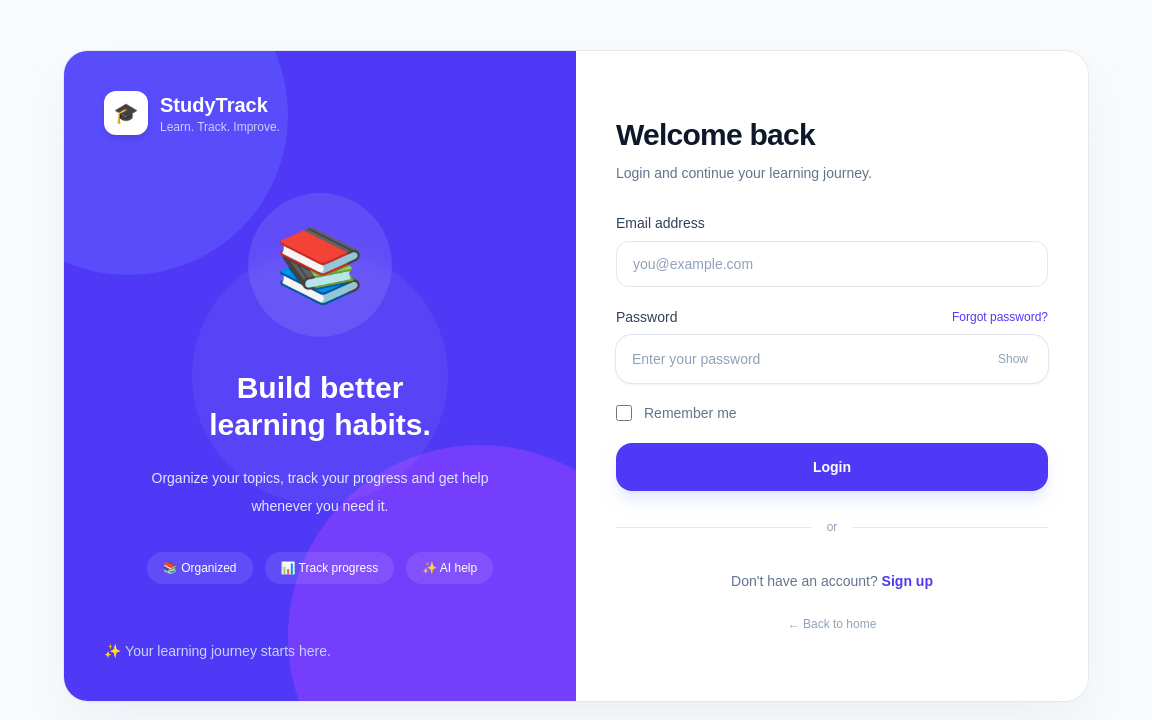
Test: Login Page › shows error when login fails
Step 1. Type "test@example.com" into the field labelled "Email address" → (832, 264), box [616, 241, 1048, 287]
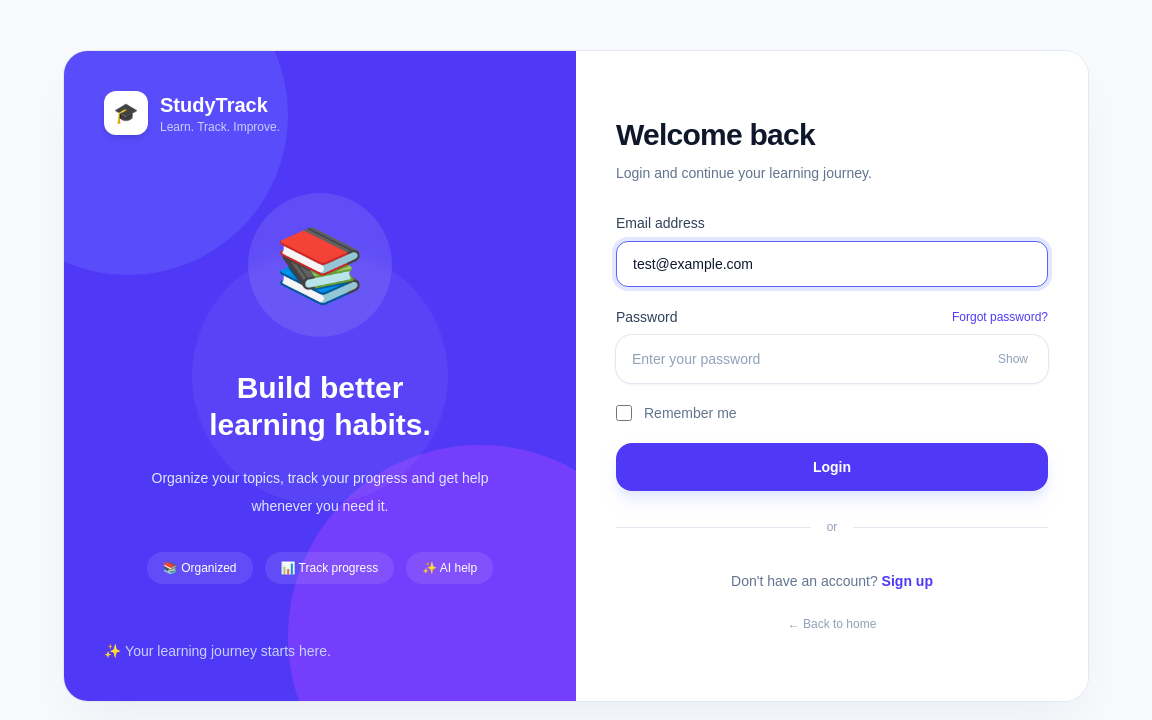
Step 2. Type "WrongPassword" into the password field labelled "Password" → (832, 359), box [616, 335, 1048, 383]
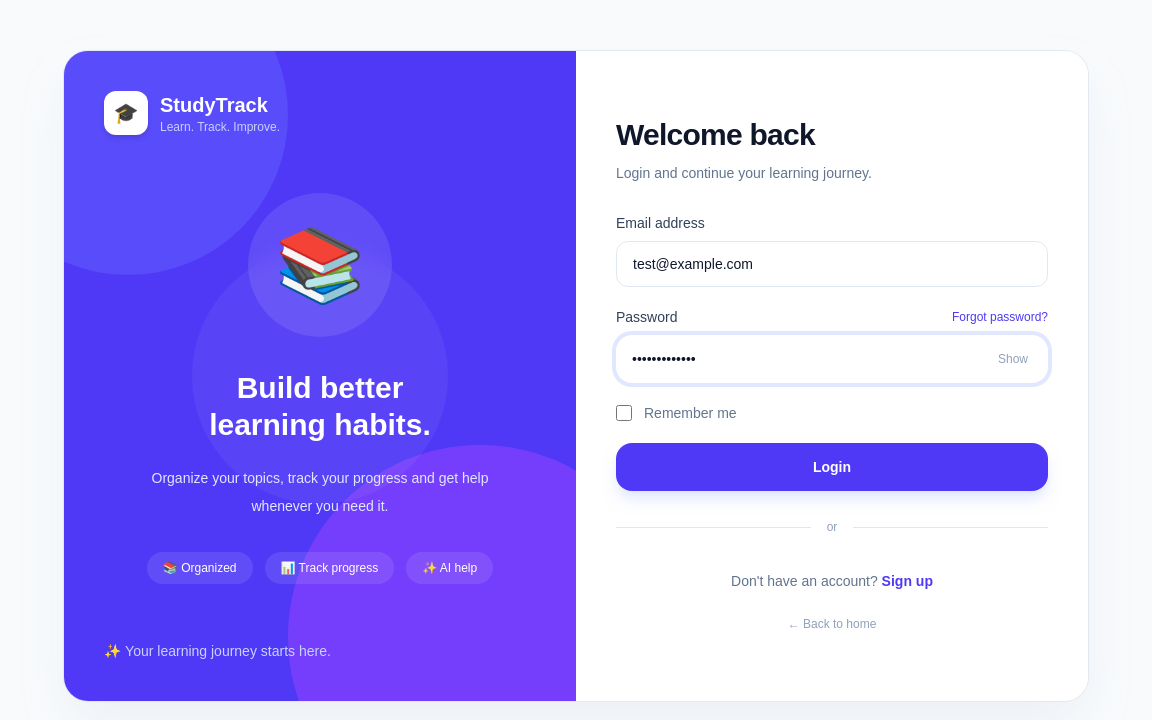
Step 3. Click the button "Login" → click(832, 467), box [616, 443, 1048, 491]
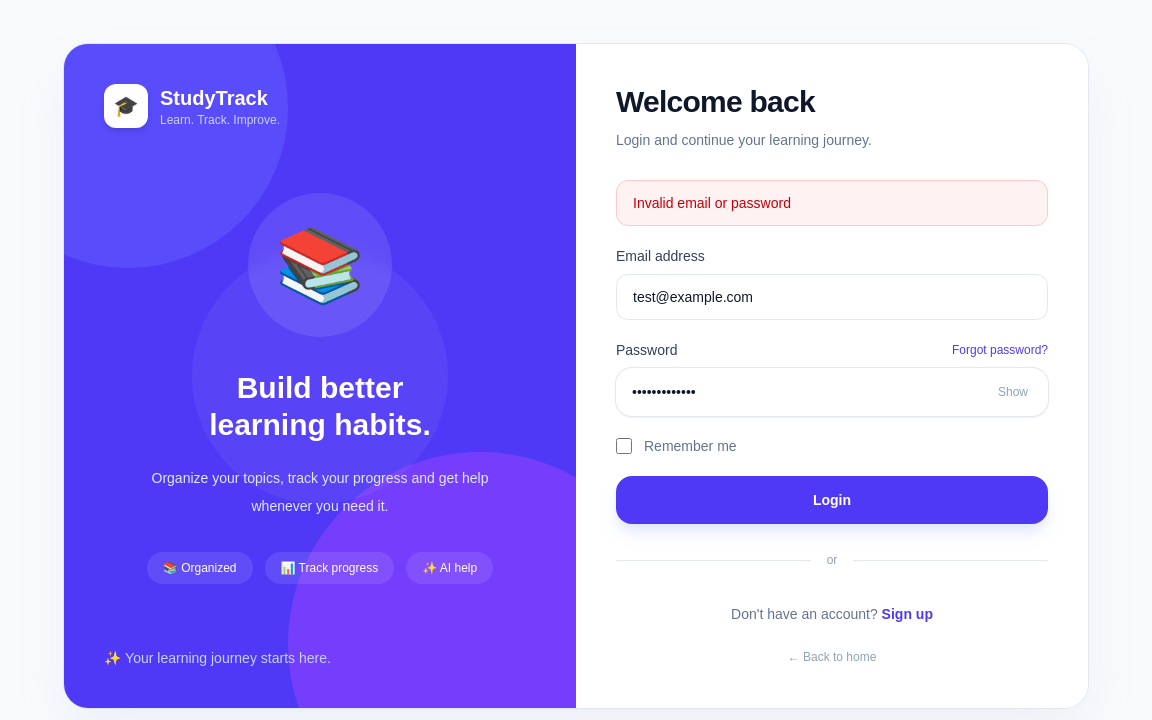
expect the text "Invalid email or password" is shown: met, box [616, 180, 1048, 226]
